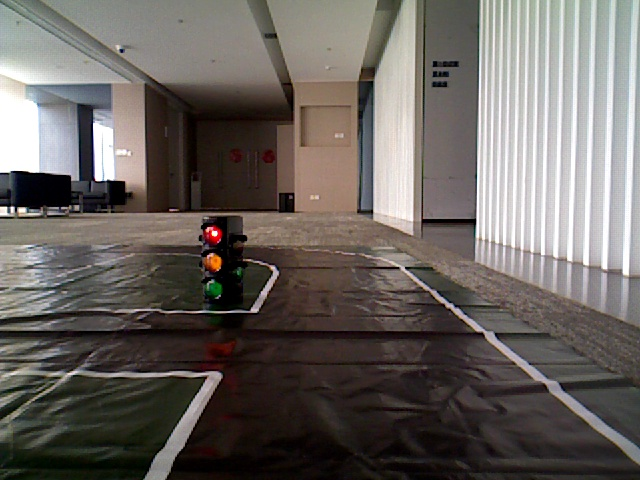red: (200, 223, 232, 304)
